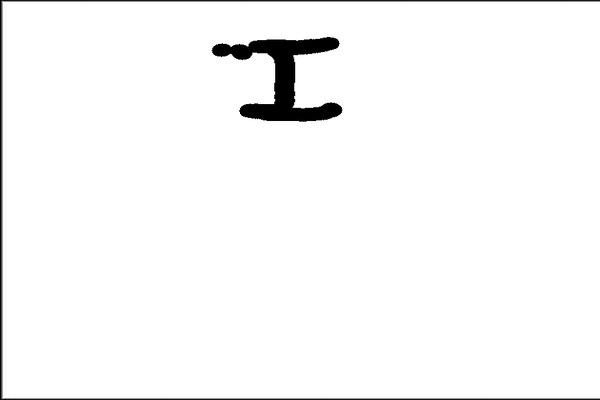i: (195, 32, 359, 122)
